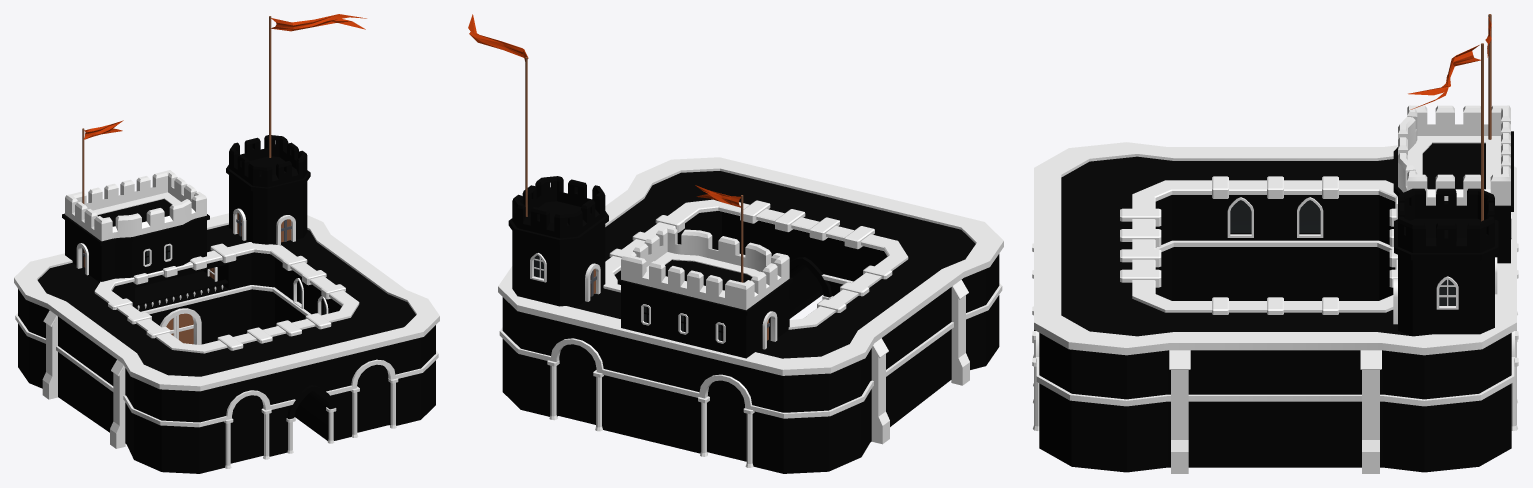
File: Fortress_a.fbx
The picture shows the model from 3 angles, left to right: view 1: azimuth 30°, elevation 25°; view 2: azimuth 150°, elevation 25°; view 3: azimuth 270°, elevation 25°; orthographic projection. The views are drawn at different scales.
Parts seen in each view (by area): view 1: fortress_a; view 2: fortress_a; view 3: fortress_a.
Part boxes in pixels (x1=…): fortress_a: x1=14, y1=14, x2=439, y2=473; fortress_a: x1=468, y1=14, x2=1003, y2=473; fortress_a: x1=1032, y1=14, x2=1518, y2=473.
Size of the model in its own units: 32.29 by 26.39 by 28.46.
